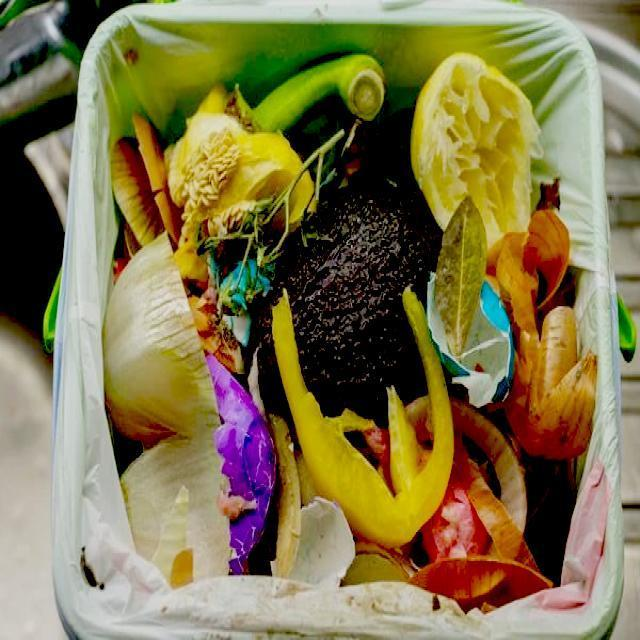Garbage: (109, 50, 596, 609)
Plastic: (206, 355, 276, 573)
contaminated_waste: (206, 355, 275, 573)
